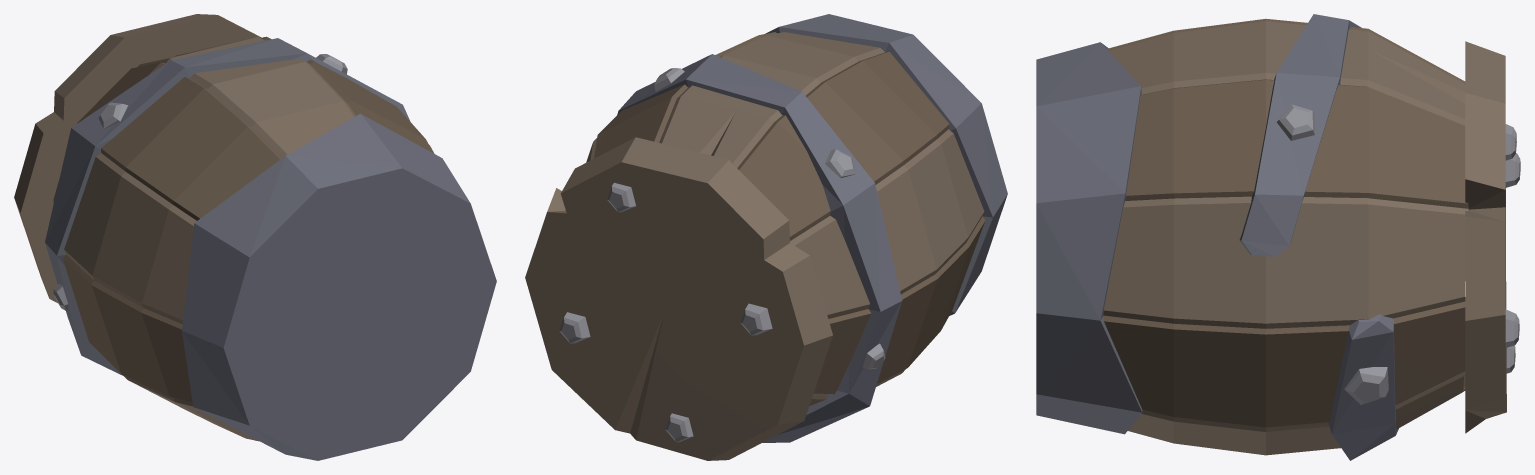
Rendered from barrel_2.glb.
3 views of the same model, side by side, from view 1: azimuth 30°, elevation 25°; view 2: azimuth 150°, elevation 25°; view 3: azimuth 270°, elevation 25° (orthographic). The views are drawn at different scales.
Visible parts, largest first — view 1: barrel_2; view 2: barrel_2; view 3: barrel_2.
Boxes of the visible parts, bbox=[...] form: barrel_2: bbox=[14, 14, 496, 460]; barrel_2: bbox=[525, 14, 1007, 460]; barrel_2: bbox=[1036, 14, 1520, 460].
Bounding box in the file's own units: 0.7754 × 0.7537 × 0.85.
Materials: 1 (1 with a texture image).
